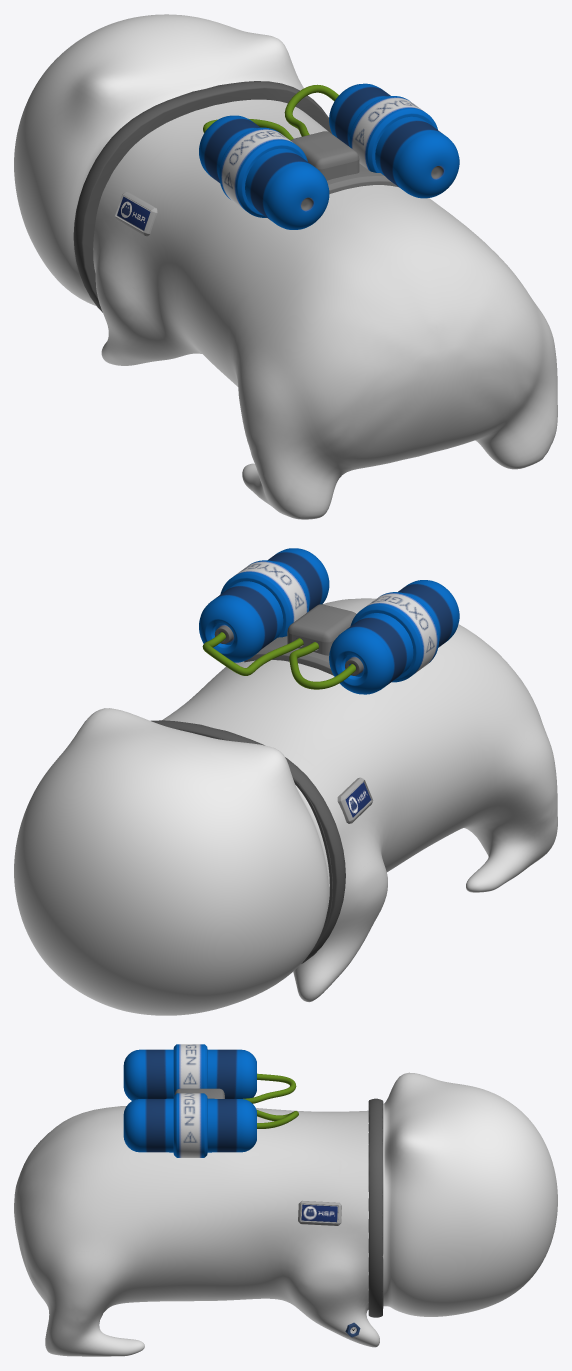
File: HumChan.fbx
3 views of the same model, one above another, from view 1: azimuth 30°, elevation 25°; view 2: azimuth 150°, elevation 25°; view 3: azimuth 270°, elevation 25° (orthographic). The views are drawn at different scales.
Parts seen in each view (by area): view 1: body, helmet, oxygen, neck, flag; view 2: helmet, body, oxygen, neck, flag; view 3: body, helmet, oxygen, neck, flag.
Part boxes in pixels (x1,y1,x2,y2): body: (93, 99, 557, 519); helmet: (14, 14, 303, 305); oxygen: (199, 83, 459, 229); neck: (73, 81, 331, 312); flag: (115, 192, 157, 236); helmet: (14, 708, 332, 1015); body: (162, 598, 557, 1002); oxygen: (199, 548, 459, 694); neck: (151, 720, 345, 963); flag: (337, 777, 373, 823); body: (14, 1106, 379, 1356); helmet: (382, 1072, 557, 1316); oxygen: (123, 1044, 298, 1157); neck: (368, 1098, 382, 1317); flag: (298, 1200, 341, 1225).
Size of the model in its own units: 2.64 by 2.58 by 5.29.
3 materials, 2 textured.
